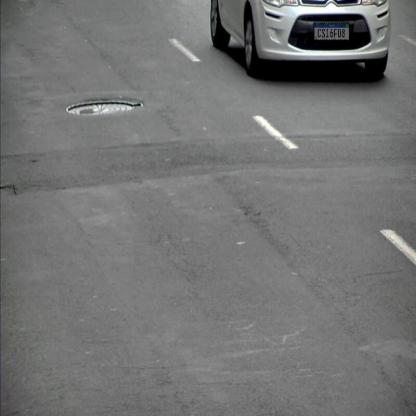PlacaM: (314, 23, 350, 40)
